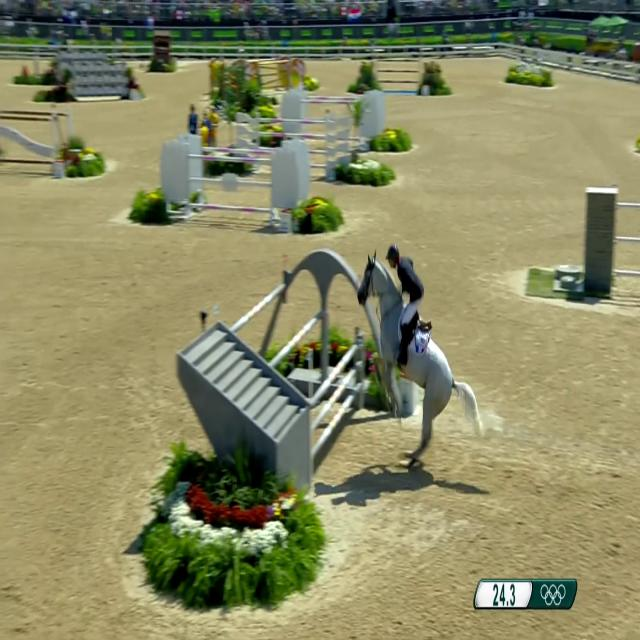Horse Jumping: (329, 234, 495, 489)
Horse Rider: (378, 206, 436, 401)
